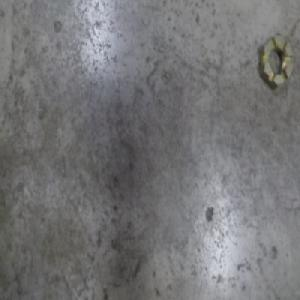Nut: (258, 30, 295, 92)
